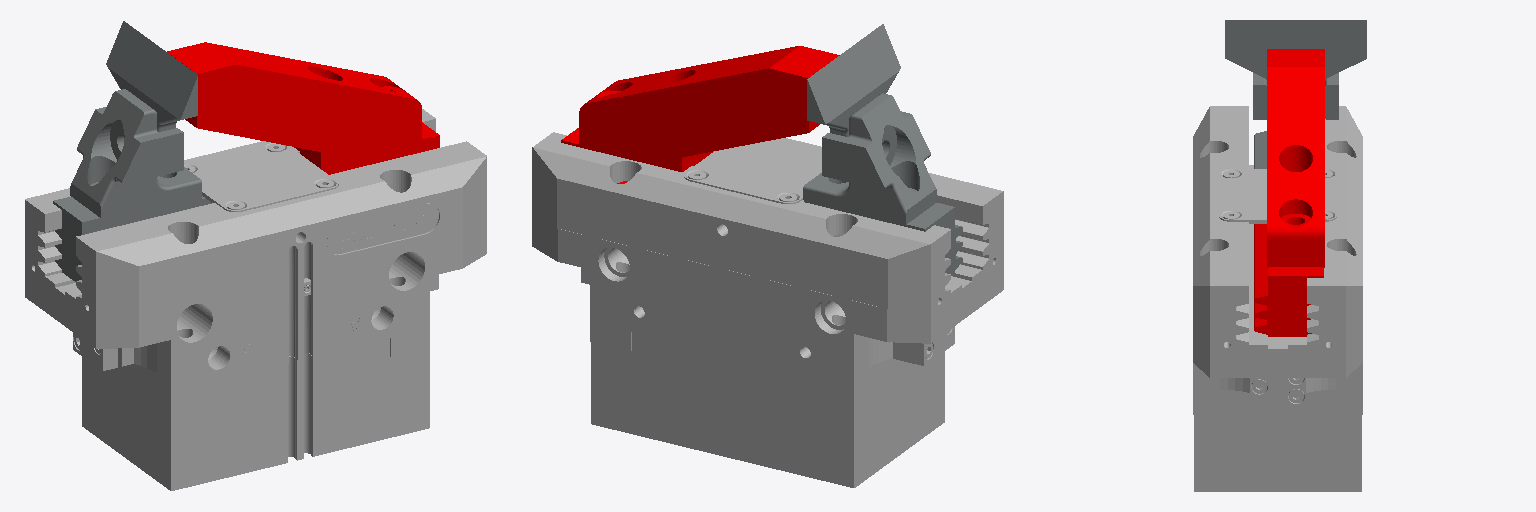
robot.urdf — uppershell_gripper:
<?xml version="1.0" encoding="utf-8"?>
<!-- This URDF was automatically created by SolidWorks to URDF Exporter! Originally created by [author] ([email redacted]) 
     Commit Version: 1.6.0-1-g15f4949  Build Version: 1.6.7594.29634
     For more information, please see http://wiki.ros.org/sw_urdf_exporter -->
<robot
  name="uppershell_gripper">
  <link
    name="schunk_base_link">
    <inertial>
      <origin
        xyz="-0.0063124 -0.023292 0.07766"
        rpy="0 0 0" />
      <mass
        value="0.00053706" />
      <inertia
        ixx="2.7117E-07"
        ixy="1.6255E-10"
        ixz="1.4401E-09"
        iyy="8.1505E-07"
        iyz="-4.6953E-10"
        izz="7.4795E-07" />
    </inertial>
    <visual>
      <origin
        xyz="0 0 0"
        rpy="0 0 0" />
      <geometry>
        <mesh
          filename="package://uppershell_gripper/meshes/schunk_base_link.STL" />
      </geometry>
      <material
        name="">
        <color
          rgba="0.75294 0.75294 0.75294 1" />
      </material>
    </visual>
    <collision>
      <origin
        xyz="0 0 0"
        rpy="0 0 0" />
      <geometry>
        <mesh
          filename="package://uppershell_gripper/meshes/schunk_base_link.STL" />
      </geometry>
    </collision>
  </link>
  <link
    name="scraper_link">
    <inertial>
      <origin
        xyz="-1.4954E-08 0.008625 -0.0088599"
        rpy="0 0 0" />
      <mass
        value="0.15272" />
      <inertia
        ixx="2.0791E-05"
        ixy="3.4294E-11"
        ixz="2.7422E-11"
        iyy="2.8069E-05"
        iyz="-3.0296E-07"
        izz="1.9918E-05" />
    </inertial>
    <visual>
      <origin
        xyz="0 0 0"
        rpy="0 0 0" />
      <geometry>
        <mesh
          filename="package://uppershell_gripper/meshes/scraper_link.STL" />
      </geometry>
      <material
        name="">
        <color
          rgba="0.52941 0.54902 0.54902 1" />
      </material>
    </visual>
    <collision>
      <origin
        xyz="0 0 0"
        rpy="0 0 0" />
      <geometry>
        <mesh
          filename="package://uppershell_gripper/meshes/scraper_link.STL" />
      </geometry>
    </collision>
  </link>
  <joint
    name="scraper_joint"
    type="prismatic">
    <origin
      xyz="-0.039301 -0.077913 0.035164"
      rpy="3.1416 0 -1.5708" />
    <parent
      link="schunk_base_link" />
    <child
      link="scraper_link" />
    <axis
      xyz="0 1 0" />
    <limit
      lower="0.00"
      upper="0.03"
      effort="10"
      velocity="100" />
  </joint>
  <link
    name="long_bracket_link">
    <inertial>
      <origin
        xyz="-8.5813E-09 0.04454 0.014987"
        rpy="0 0 0" />
      <mass
        value="0.3177" />
      <inertia
        ixx="0.00021945"
        ixy="3.8799E-11"
        ixz="-2.4923E-11"
        iyy="0.00018897"
        iyz="6.6364E-05"
        izz="5.3885E-05" />
    </inertial>
    <visual>
      <origin
        xyz="0 0 0"
        rpy="0 0 0" />
      <geometry>
        <mesh
          filename="package://uppershell_gripper/meshes/long_bracket_link.STL" />
      </geometry>
      <material
        name="">
        <color
          rgba="1 0 0 1" />
      </material>
    </visual>
    <collision>
      <origin
        xyz="0 0 0"
        rpy="0 0 0" />
      <geometry>
        <mesh
          filename="package://uppershell_gripper/meshes/long_bracket_link.STL" />
      </geometry>
    </collision>
  </link>
  <joint
    name="long_bracket_joint"
    type="prismatic">
    <origin
      xyz="-0.005601 -0.077913 0.00026396"
      rpy="1.5708 0 1.5708" />
    <parent
      link="schunk_base_link" />
    <child
      link="long_bracket_link" />
    <axis
      xyz="0 0 1" />
    <limit
      lower="0.00"
      upper="0.03"
      effort="10"
      velocity="100" />
  </joint>
</robot>

--- What the picture shows (computed from the rendered views, not written in the file) ---
The picture shows the robot from 3 angles, left to right: view 1: azimuth 30°, elevation 25°; view 2: azimuth 150°, elevation 25°; view 3: azimuth 270°, elevation 25°; orthographic projection.
Model uppershell_gripper with 3 links and 2 joints (2 prismatic), rooted at schunk_base_link, posed every joint at zero.
Links seen in each view (by area): view 1: schunk_base_link, long_bracket_link, scraper_link; view 2: schunk_base_link, long_bracket_link, scraper_link; view 3: schunk_base_link, long_bracket_link, scraper_link.
Link boxes in pixels (x1,y1,x2,y2): schunk_base_link: (25,109,486,490); long_bracket_link: (167,42,439,174); scraper_link: (53,21,211,281); schunk_base_link: (532,132,1003,487); long_bracket_link: (561,46,839,183); scraper_link: (803,24,962,275); schunk_base_link: (1193,106,1362,491); long_bracket_link: (1254,49,1324,336); scraper_link: (1225,20,1366,168).
Size in the robot's own frame: 0.151 by 0.0614 by 0.145 metres.
Meshes: 3 distinct files referenced, 3 mesh visuals loaded (3 binary STL).